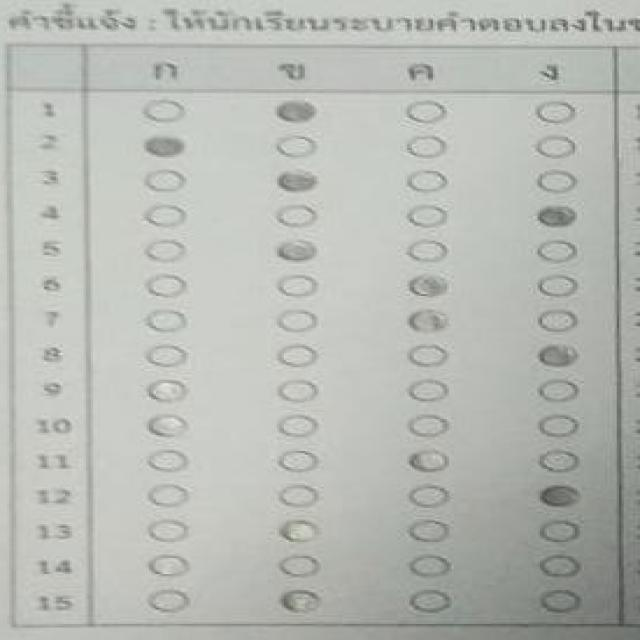a: (90, 131, 616, 162)
b: (88, 164, 618, 198), (87, 94, 614, 126), (92, 236, 618, 268)
c: (94, 304, 616, 338), (94, 271, 620, 303)
d: (98, 479, 620, 514), (90, 200, 614, 233), (94, 343, 616, 372)
null: (96, 584, 618, 619), (96, 407, 618, 441), (96, 444, 622, 477), (92, 374, 614, 406), (96, 518, 618, 548), (96, 551, 622, 580)
